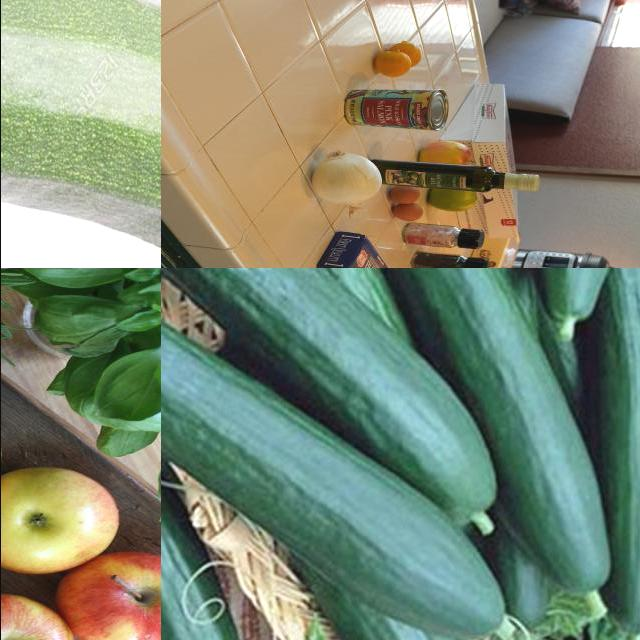bell_pepper: (413, 252, 490, 269)
cucumber: (161, 269, 505, 640), (310, 269, 616, 590), (161, 269, 497, 531), (581, 269, 640, 636), (161, 425, 259, 640), (186, 269, 414, 349), (289, 567, 493, 640), (431, 269, 540, 335)
egg: (391, 204, 423, 224), (389, 184, 419, 205)
onion: (305, 149, 385, 219)
zucchini: (1, 1, 161, 261)
